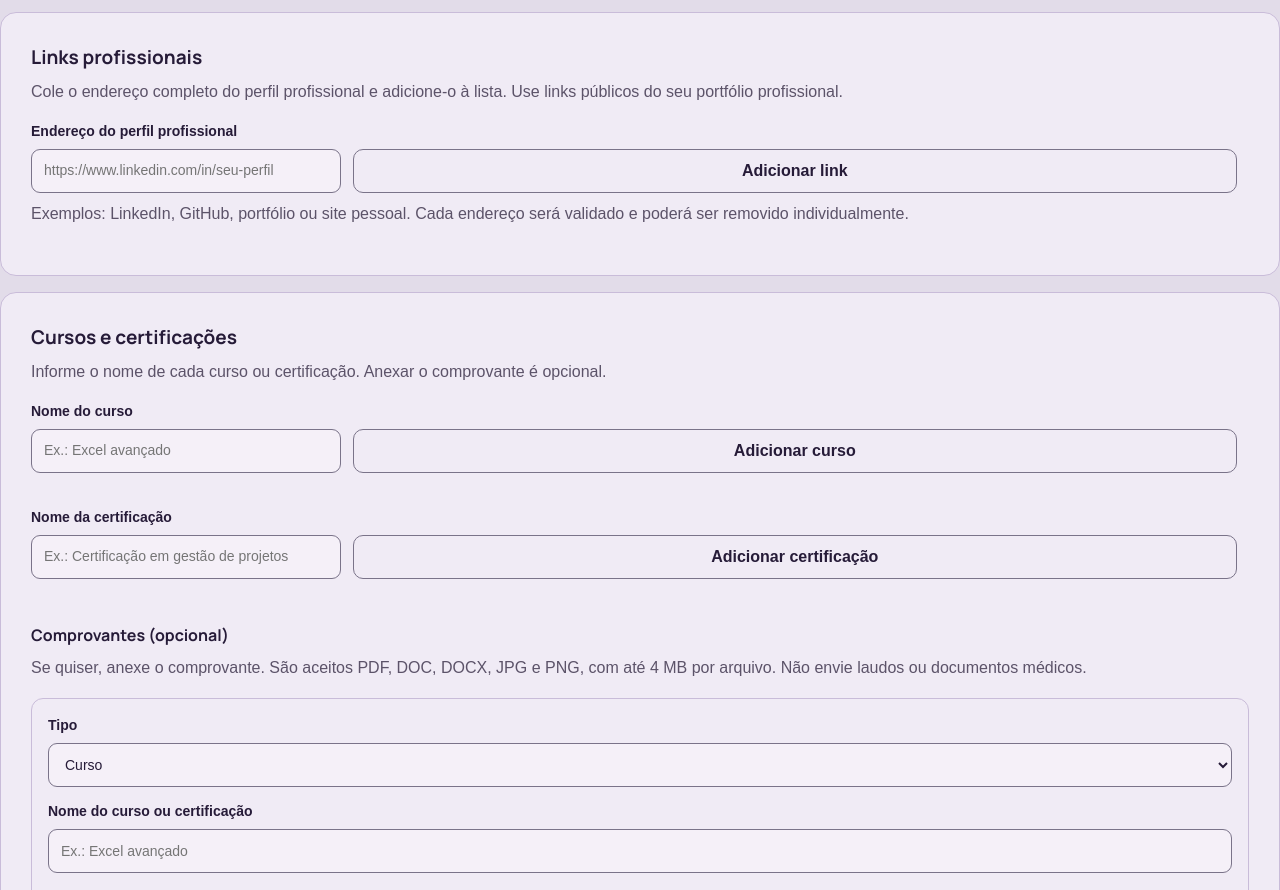
candidate profile editor › registers a course by name without requiring an attachment
(page scrolled)
Type "Excel avançado" into the field labelled "Nome do curso" at (186,451), box [31,429,340,473]
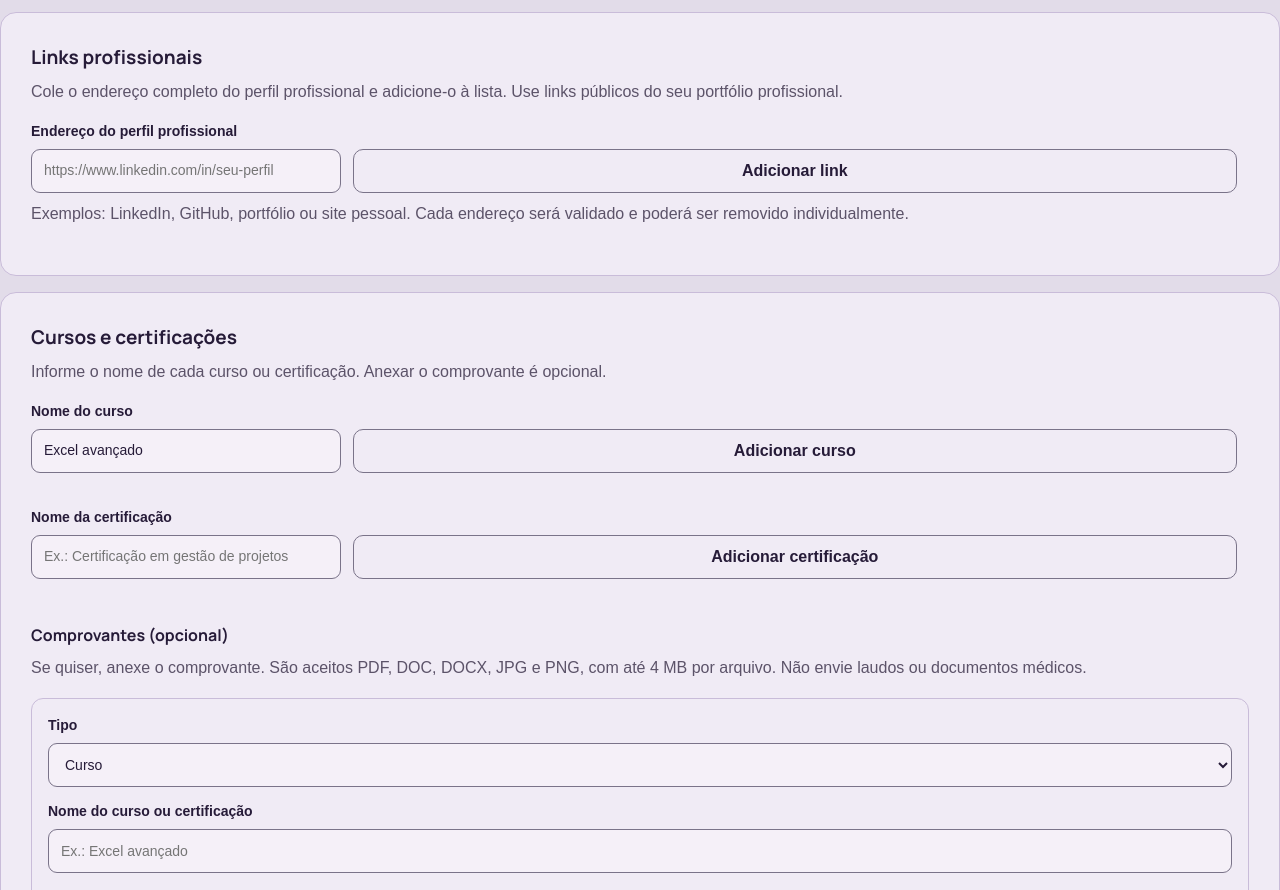
Click the button "Adicionar curso" at (795,451), box [352,429,1237,473]
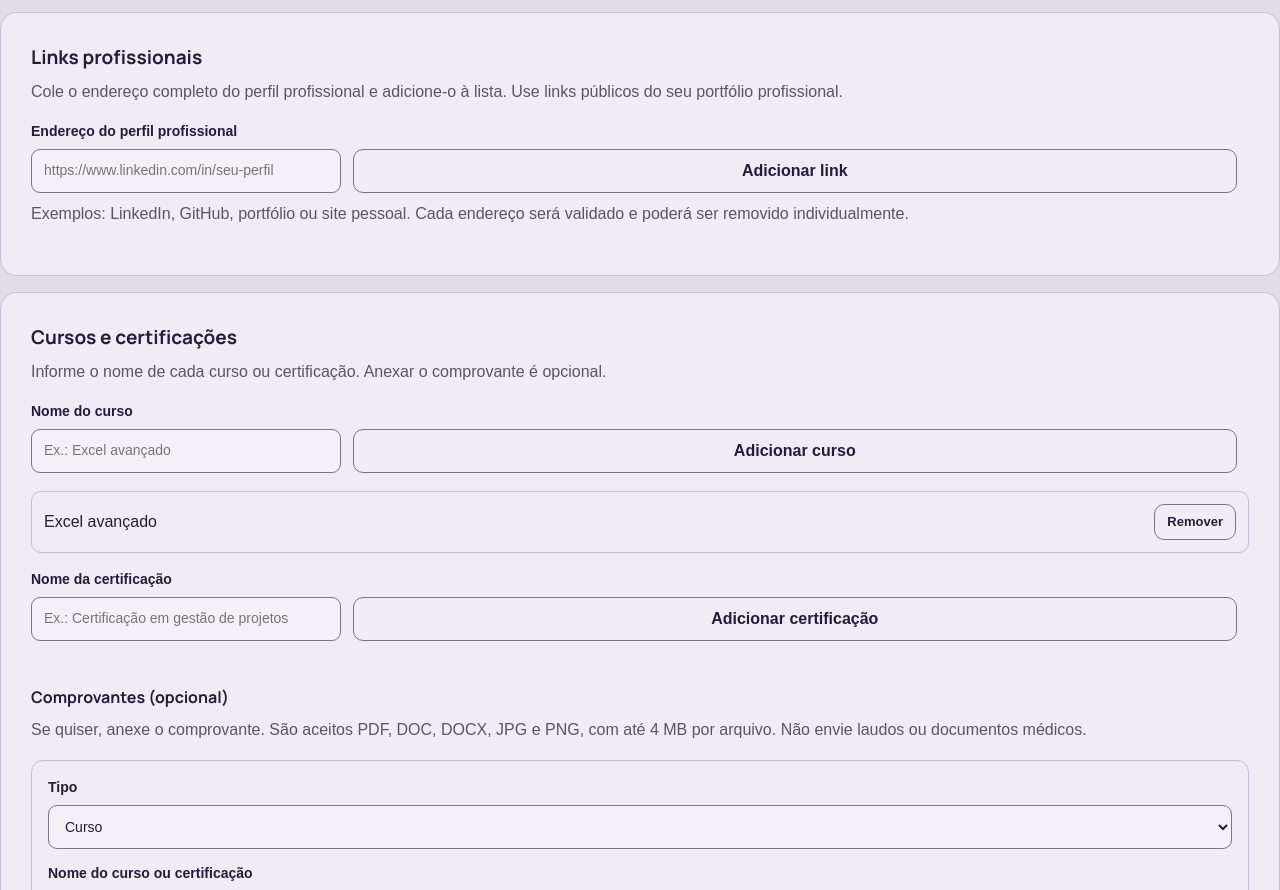
Expected: the text "Excel avançado" is shown, [44,510,157,534]
Expected: the button with aria-label "Remover curso: Excel avançado" is shown, [1154,504,1236,540]
